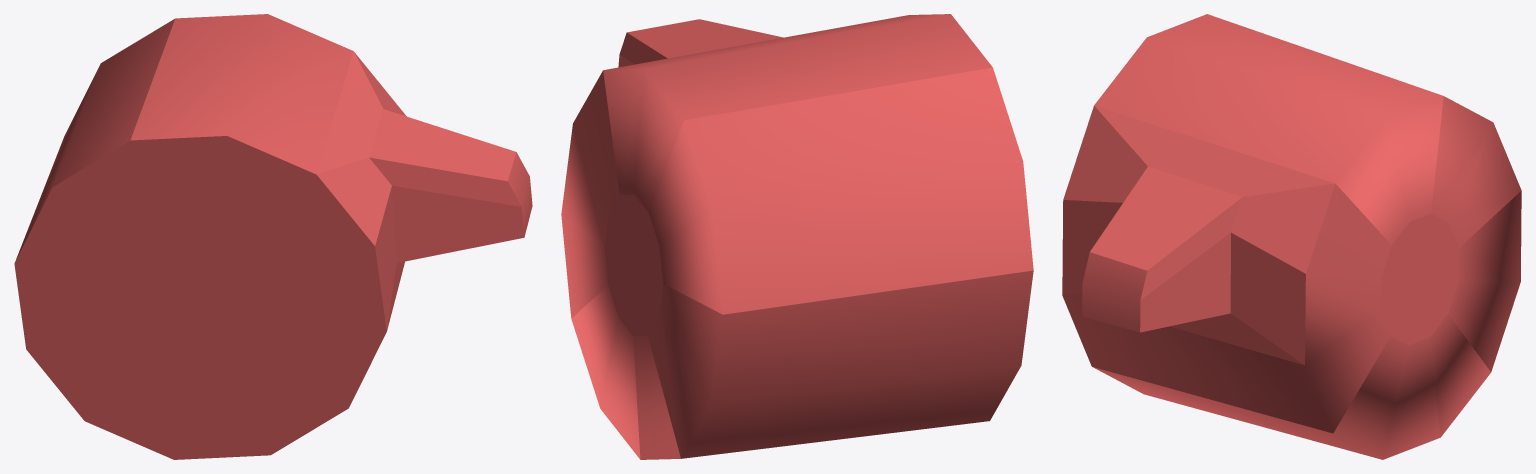
3 views of the same model, side by side, from view 1: azimuth 30°, elevation 25°; view 2: azimuth 150°, elevation 25°; view 3: azimuth 270°, elevation 25° (orthographic). The views are drawn at different scales.
Visible parts, largest first — view 1: polySurface1; view 2: polySurface1; view 3: polySurface1.
Boxes of the visible parts, x1,y1,x2,y2 form: polySurface1: (14, 14, 532, 459); polySurface1: (561, 14, 1033, 459); polySurface1: (1062, 14, 1521, 459).
Size of the model in its own units: 2.22 by 1.61 by 1.94.
